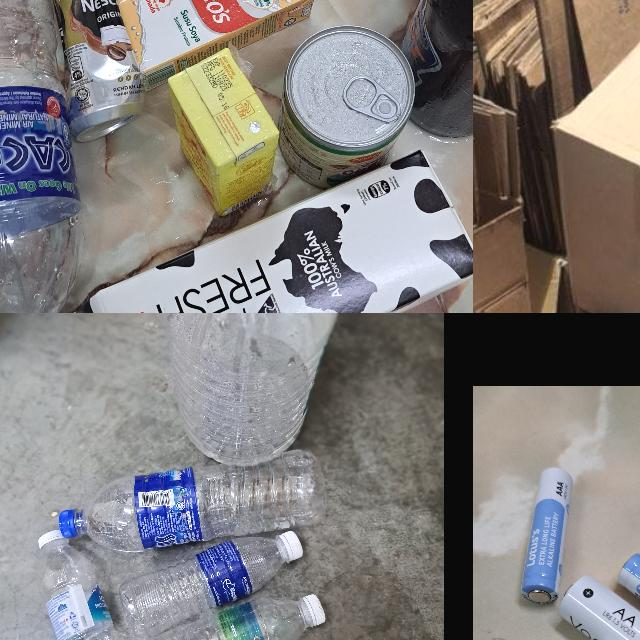aba de lata: (339, 68, 401, 128)
bateria: (522, 466, 572, 606), (557, 575, 640, 640)
caixinha: (57, 149, 473, 313), (168, 45, 272, 213), (120, 0, 315, 78)
garrafa de vidro: (401, 0, 473, 138)
garrafa plástica: (169, 313, 344, 465), (0, 0, 79, 313), (92, 448, 332, 548), (107, 538, 289, 630), (39, 554, 147, 640), (152, 595, 314, 640)
lata: (284, 22, 414, 194), (45, 0, 144, 142)
papelão: (548, 21, 640, 313), (473, 59, 567, 313)
tampa plástica: (36, 522, 72, 550), (284, 526, 312, 562), (305, 591, 329, 623), (61, 506, 80, 536)
